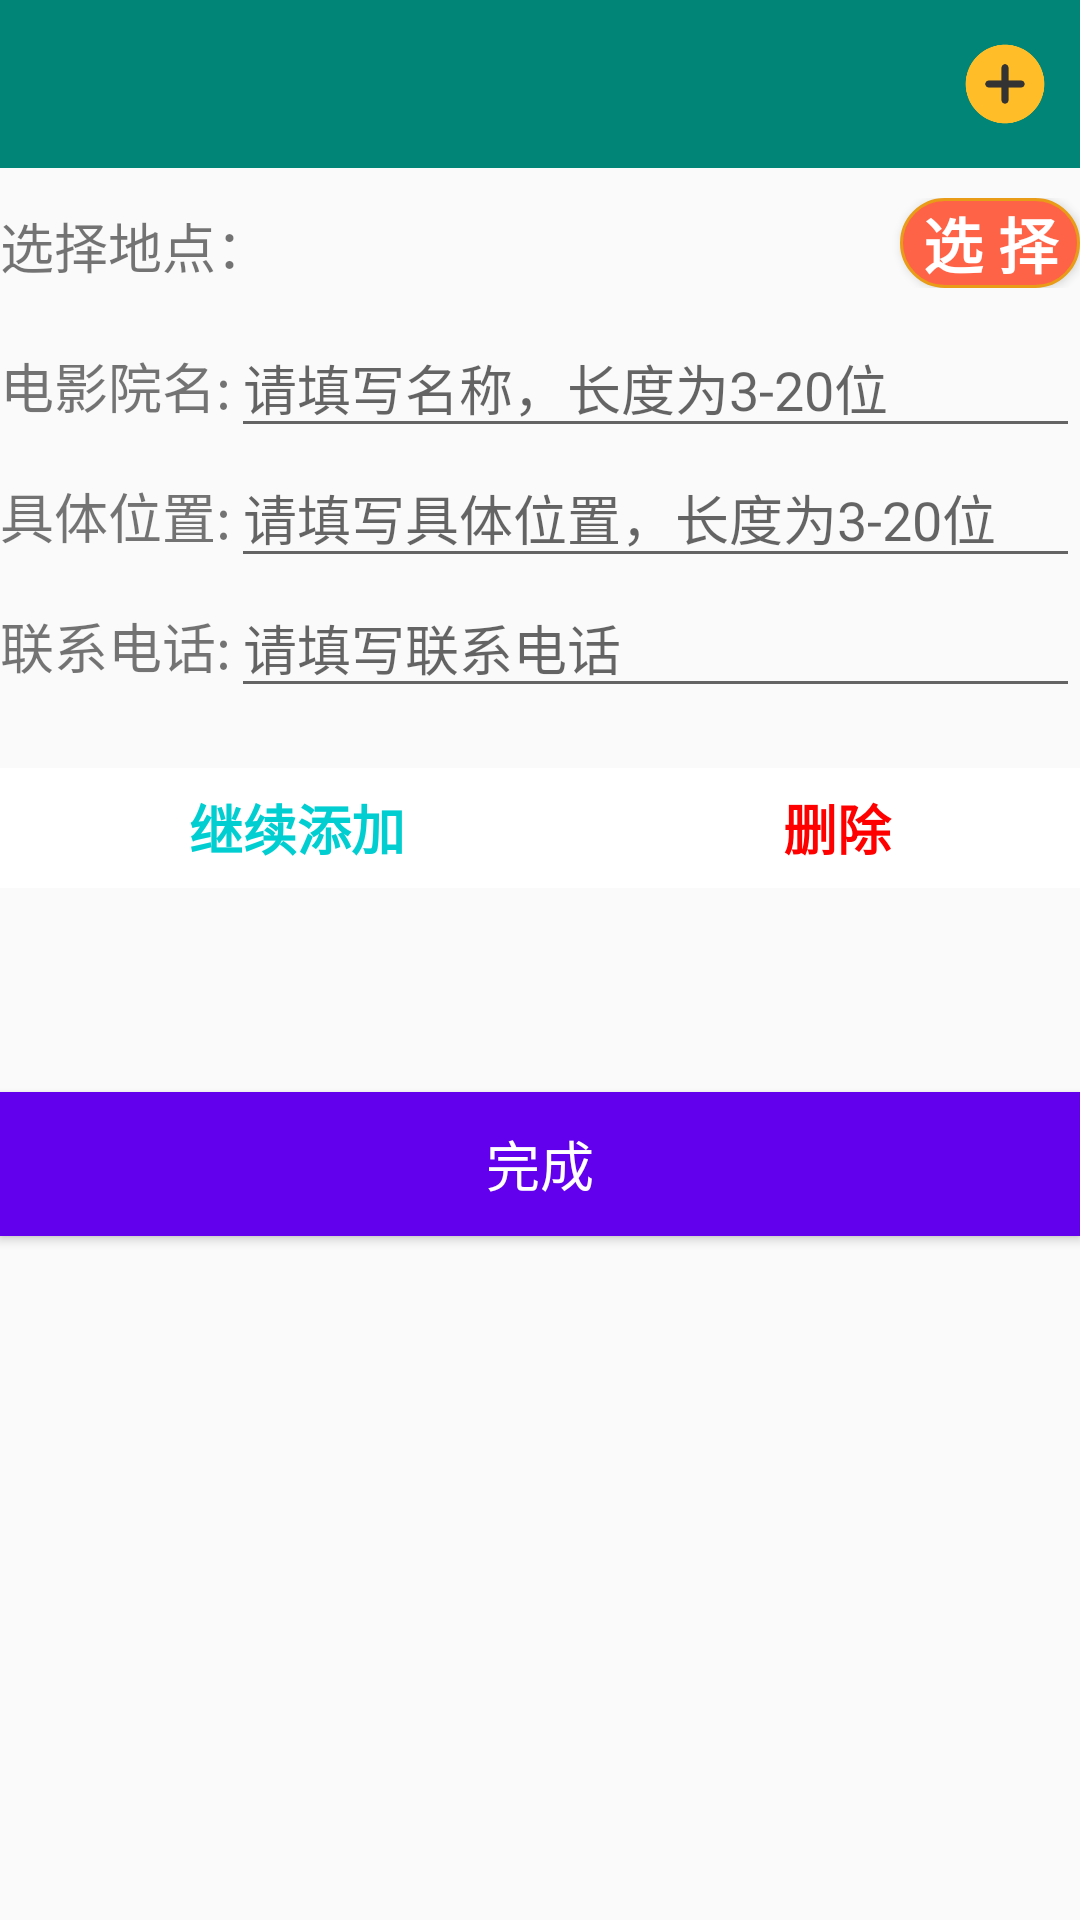

Where to tap for icons on this 1080 x 1920 app screen, as (x,y):
pic add: (1005,84)
